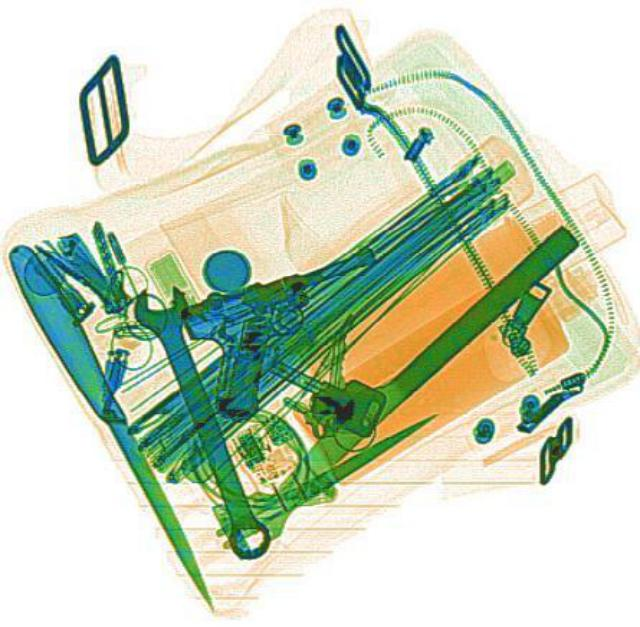Gun: (172, 243, 416, 424)
Knife: (252, 224, 580, 517), (0, 239, 224, 612), (208, 403, 447, 549)
Wrench: (124, 277, 280, 560)
